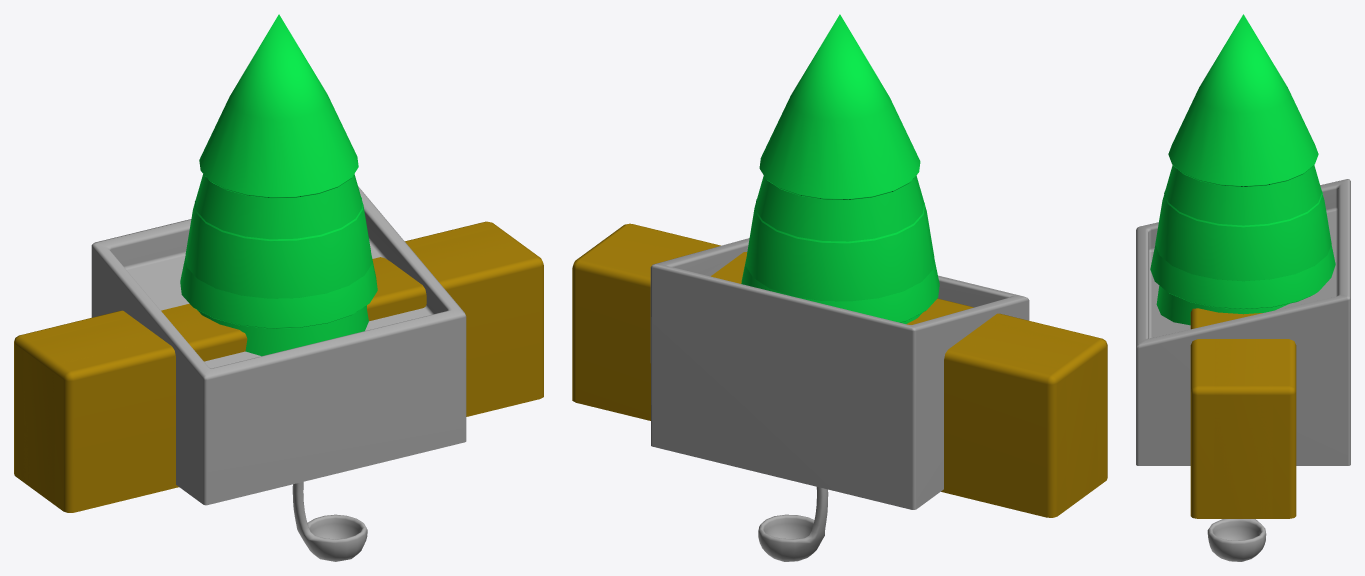
The model's file is ElixirAssets.fbx.
3 views of the same model, side by side, from view 1: azimuth 30°, elevation 25°; view 2: azimuth 150°, elevation 25°; view 3: azimuth 270°, elevation 25° (orthographic). The views are drawn at different scales.
Parts seen in each view (by area): view 1: Shelf, Table2, Tree1, Table1, Tree2, Spoon1; view 2: Shelf, Table2, Tree1, Table1, Tree2, Spoon1; view 3: Tree1, Shelf, Table2, Table1, Tree2, Spoon1.
Boxes of the visible parts, x1,y1,x2,y2 form: Shelf: (91,186,466,505); Table2: (14,221,543,512); Tree1: (185,14,372,298); Table1: (23,228,531,504); Tree2: (180,197,377,356); Spoon1: (292,482,367,561); Shelf: (650,238,1029,509); Table2: (572,223,1107,517); Tree1: (745,14,934,301); Table1: (590,231,1097,509); Tree2: (741,199,939,323); Spoon1: (758,487,828,561); Tree1: (1155,14,1331,281); Shelf: (1136,179,1350,465); Table2: (1190,308,1296,518); Table1: (1214,312,1272,518); Tree2: (1150,191,1335,325); Spoon1: (1207,519,1266,561).
Bounding box in the file's own units: 7.17 × 7.92 × 2.96.
